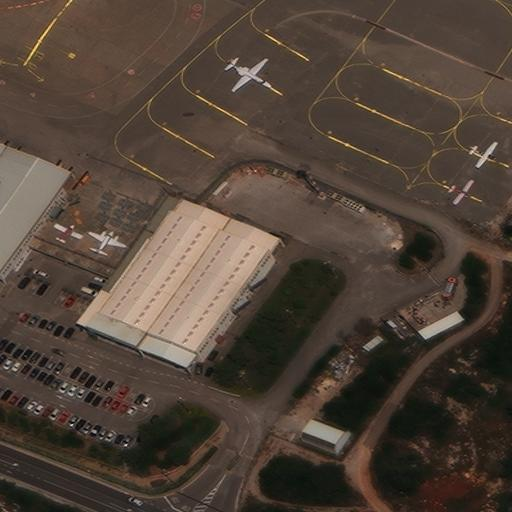Medium Civil Transport: (228, 59, 271, 92)
Small Civil Transport: (87, 230, 126, 254), (468, 143, 498, 168), (449, 181, 474, 205), (56, 223, 83, 241)
